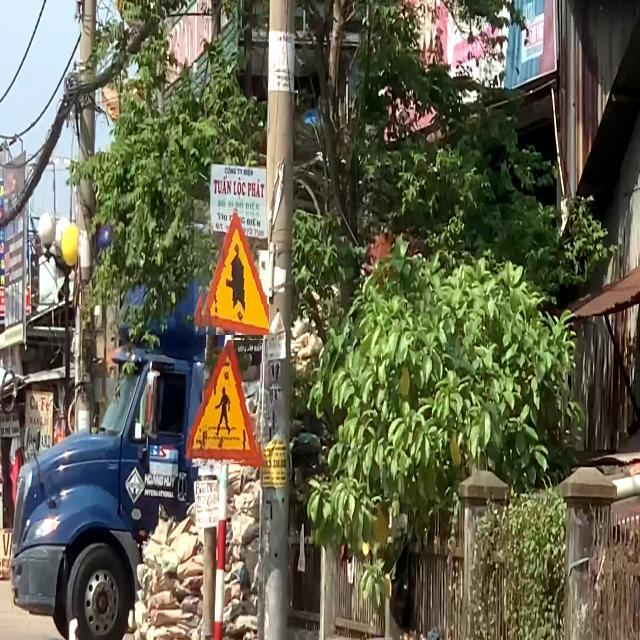W-207c: (194, 206, 269, 335)
W-224: (186, 340, 265, 468)
